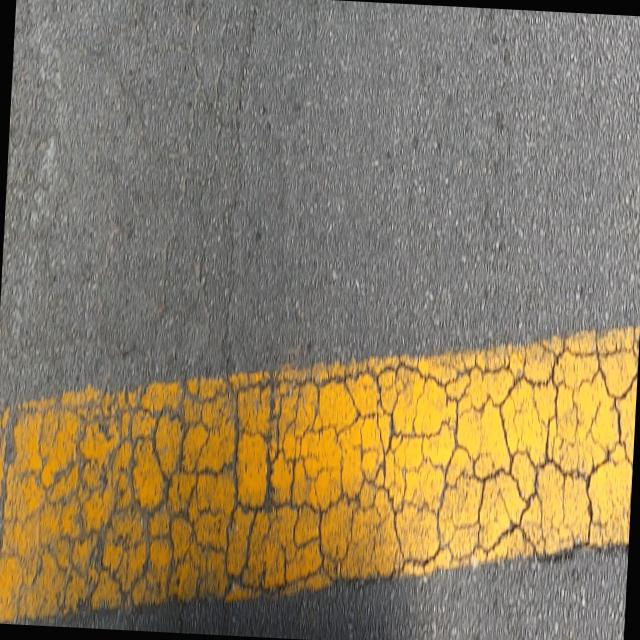Retak-Buaya: (0, 324, 640, 622), (136, 0, 265, 387)
